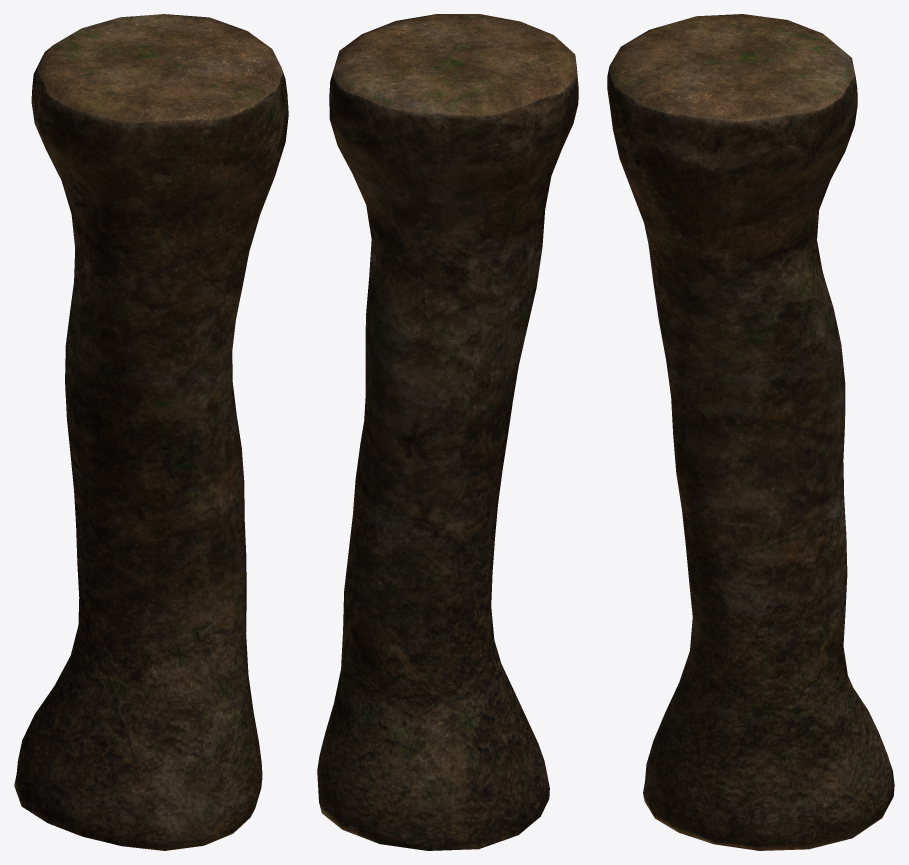
The model's file is SM_TI_Column_12m_1.gltf.
3 renders of one model, left to right at view 1: azimuth 30°, elevation 25°; view 2: azimuth 150°, elevation 25°; view 3: azimuth 270°, elevation 25°, orthographic. The views are drawn at different scales.
Parts seen in each view (by area): view 1: SM_TI_Column_12m_1; view 2: SM_TI_Column_12m_1; view 3: SM_TI_Column_12m_1.
Part boxes in pixels (left/top/right/bottom): SM_TI_Column_12m_1: left=14, top=14, right=288, bottom=850; SM_TI_Column_12m_1: left=317, top=14, right=578, bottom=850; SM_TI_Column_12m_1: left=607, top=14, right=894, bottom=850.
Bounding box in the file's own units: 3.6 × 11.7 × 4.1.
1 material, 1 textured.
